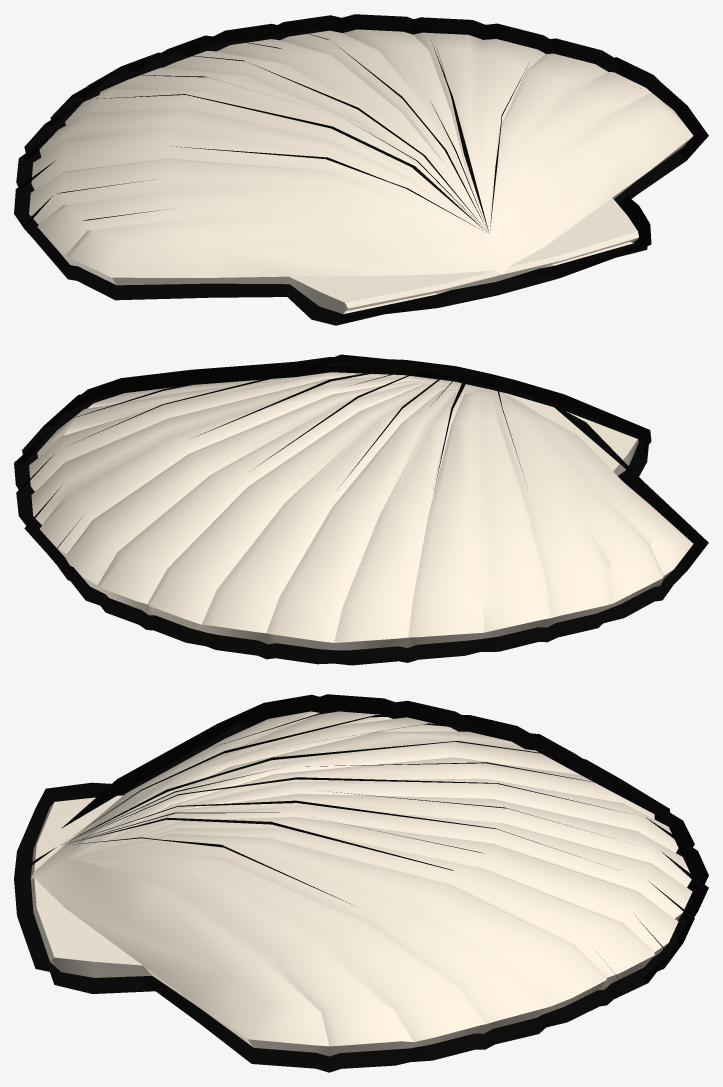
Rendered from shell_1.glb.
3 views of the same model, one above another, from view 1: azimuth 30°, elevation 25°; view 2: azimuth 150°, elevation 25°; view 3: azimuth 270°, elevation 25° (orthographic). The views are drawn at different scales.
Parts seen in each view (by area): view 1: Sphere.002; view 2: Sphere.002; view 3: Sphere.002.
Boxes of the visible parts, left/top/right/bottom form: Sphere.002: left=14, top=14, right=708, bottom=325; Sphere.002: left=14, top=354, right=708, bottom=665; Sphere.002: left=14, top=694, right=708, bottom=1072.
Size of the model in its own units: 0.5396 by 0.0965 by 0.4719.
